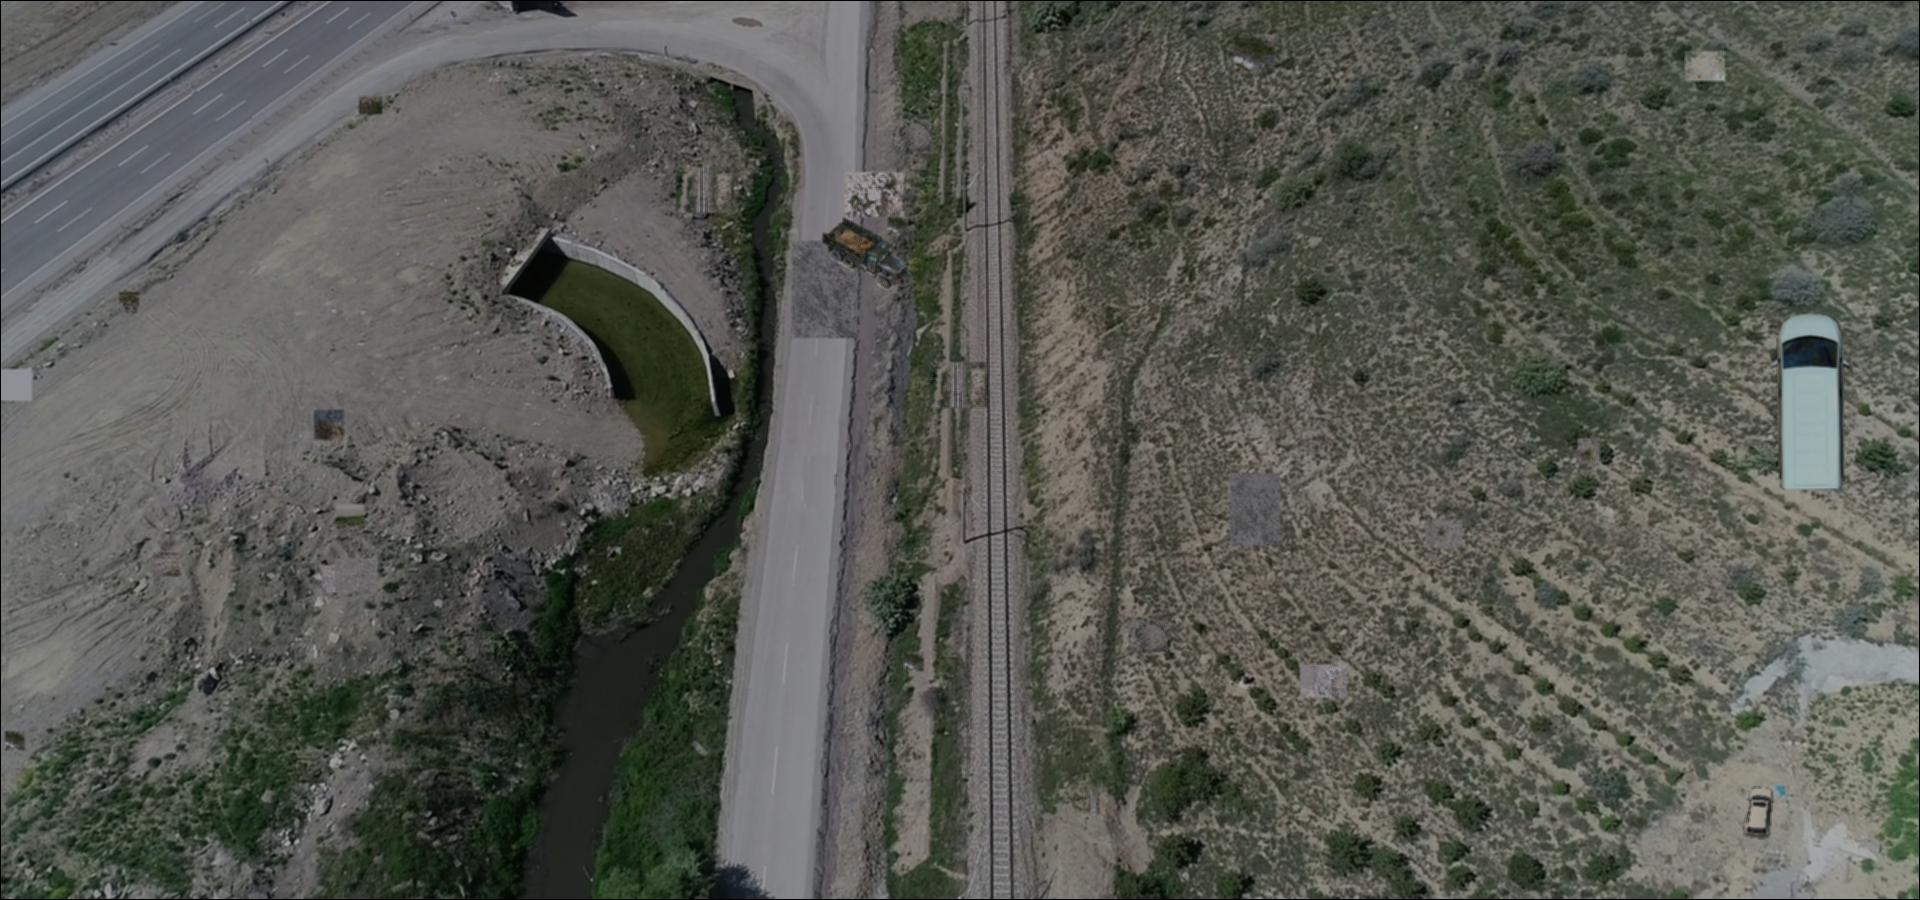arac: (1769, 310, 1851, 493), (820, 216, 911, 290), (1742, 786, 1776, 839)
